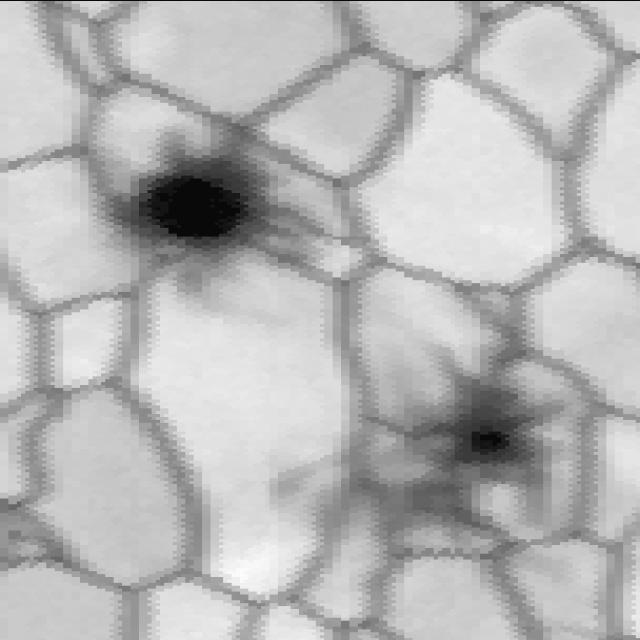good_void: (230, 344, 593, 578), (88, 115, 349, 308)
